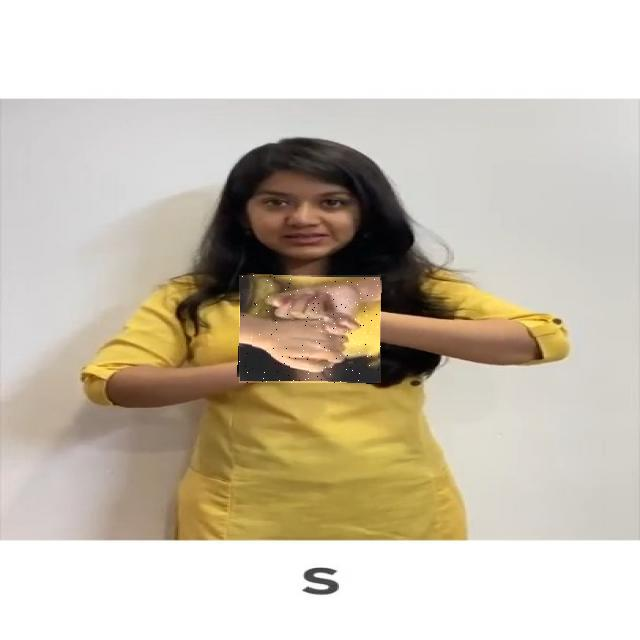S: (239, 275, 381, 383)
